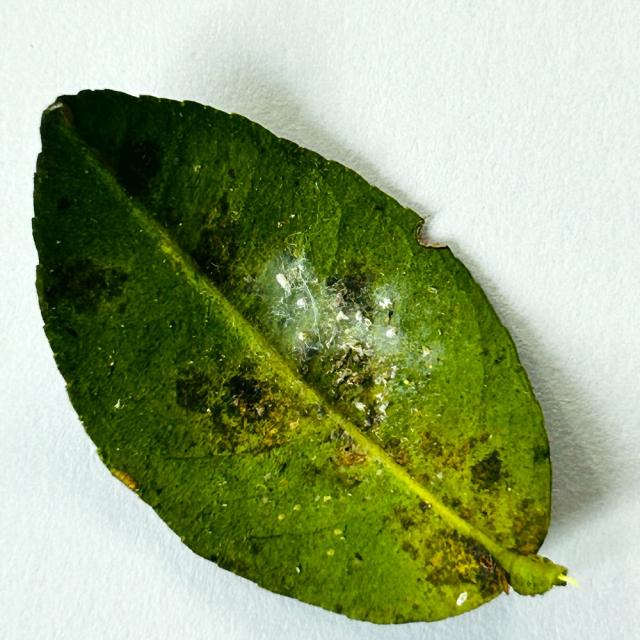Bacterial_Blight: (192, 366, 295, 452), (42, 253, 132, 318), (112, 137, 167, 200), (174, 362, 224, 422), (223, 372, 272, 419), (191, 221, 238, 270), (174, 369, 225, 414), (423, 547, 476, 589), (327, 272, 374, 315), (241, 417, 288, 456), (412, 431, 455, 471), (468, 449, 506, 489), (504, 495, 542, 534), (393, 504, 423, 532), (218, 553, 254, 575), (361, 401, 386, 429), (532, 446, 550, 465), (355, 373, 374, 390), (56, 196, 74, 213), (401, 540, 418, 557), (218, 198, 231, 217), (63, 326, 79, 339), (248, 541, 262, 555), (459, 506, 473, 520), (492, 352, 507, 365), (419, 499, 433, 512), (106, 360, 115, 378), (278, 461, 288, 475), (373, 202, 384, 213), (208, 552, 219, 563), (480, 347, 490, 357), (227, 168, 236, 179), (354, 552, 363, 561)
Lemon: (29, 90, 570, 627)
